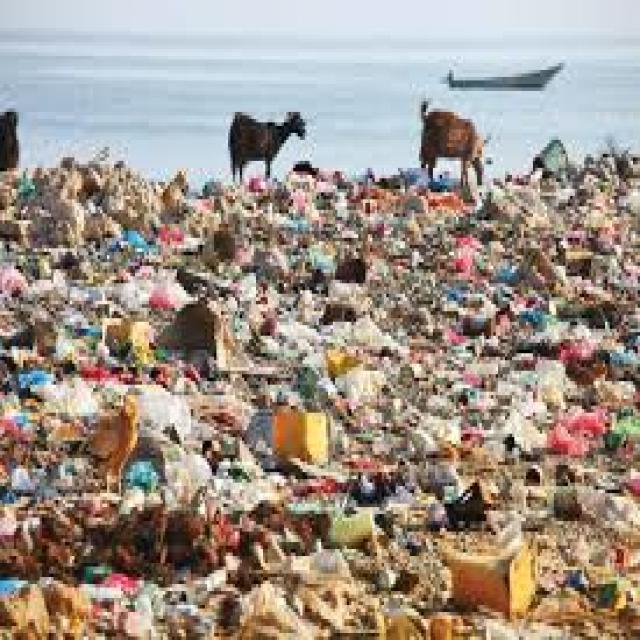heap: (43, 218, 473, 609)
